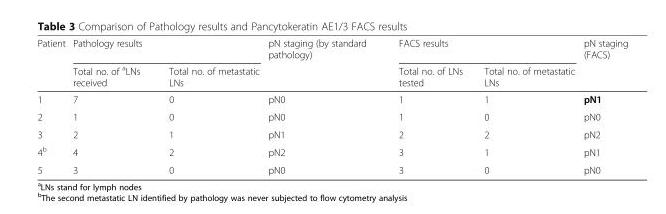table: (36, 37, 627, 175)
table column: (263, 37, 381, 175), (153, 37, 263, 175), (472, 37, 578, 175), (381, 37, 472, 175), (68, 37, 153, 175), (578, 37, 627, 175), (36, 37, 68, 175)
table column header: (36, 37, 627, 90)
table row: (36, 61, 627, 90), (36, 37, 627, 61), (36, 107, 627, 125), (36, 142, 627, 160), (36, 90, 627, 107), (36, 125, 627, 142), (36, 160, 627, 175)
table spanning cell: (263, 37, 381, 90), (381, 37, 578, 61), (68, 37, 263, 61), (578, 37, 627, 90), (36, 37, 68, 90)
